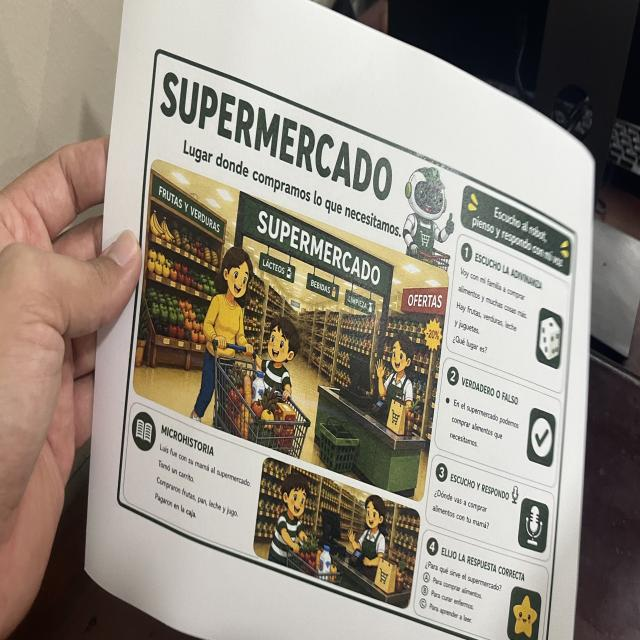supermercado: (113, 42, 582, 640)
